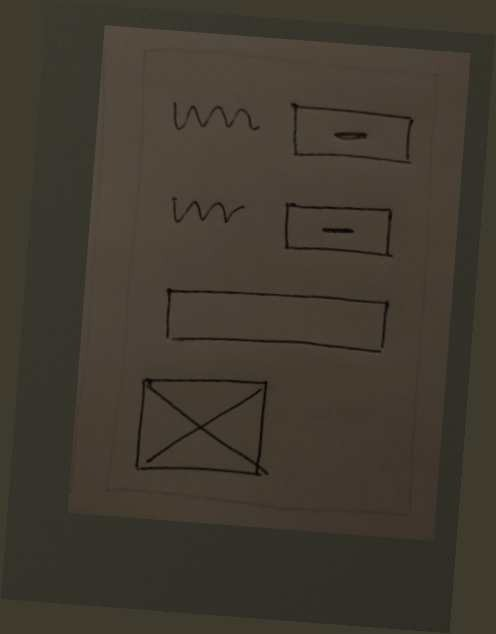button: (278, 97, 419, 175), (273, 196, 404, 269)
image: (125, 364, 278, 485)
text: (166, 95, 263, 149), (163, 188, 249, 237)
text_input: (157, 278, 396, 365)
